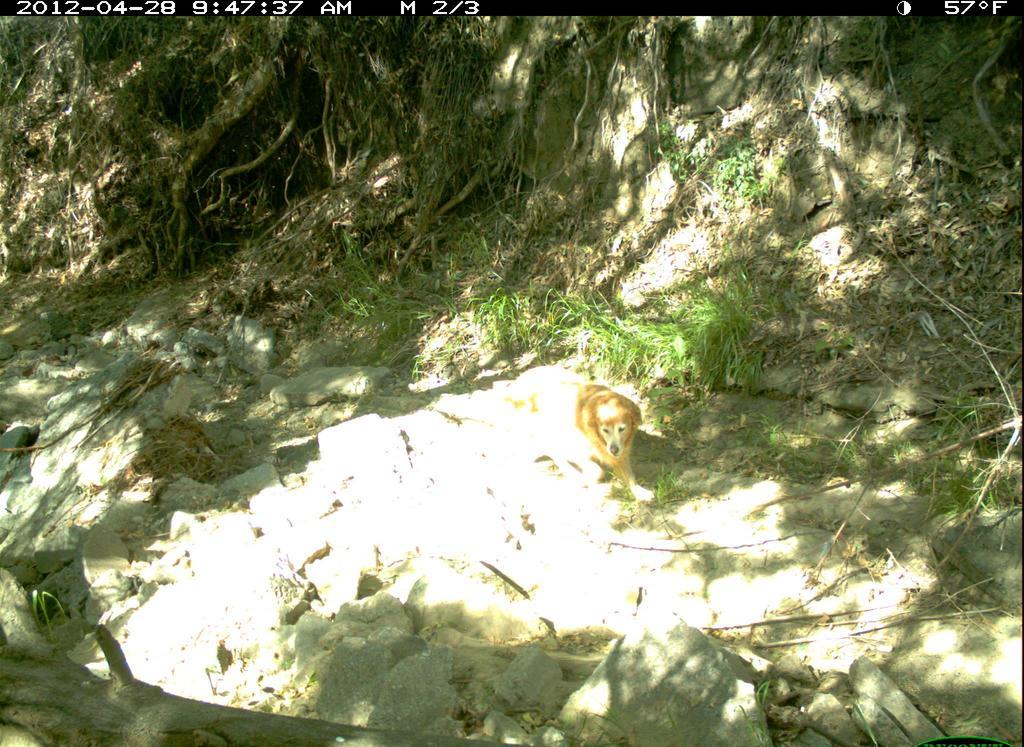dog: (560, 369, 680, 519)
